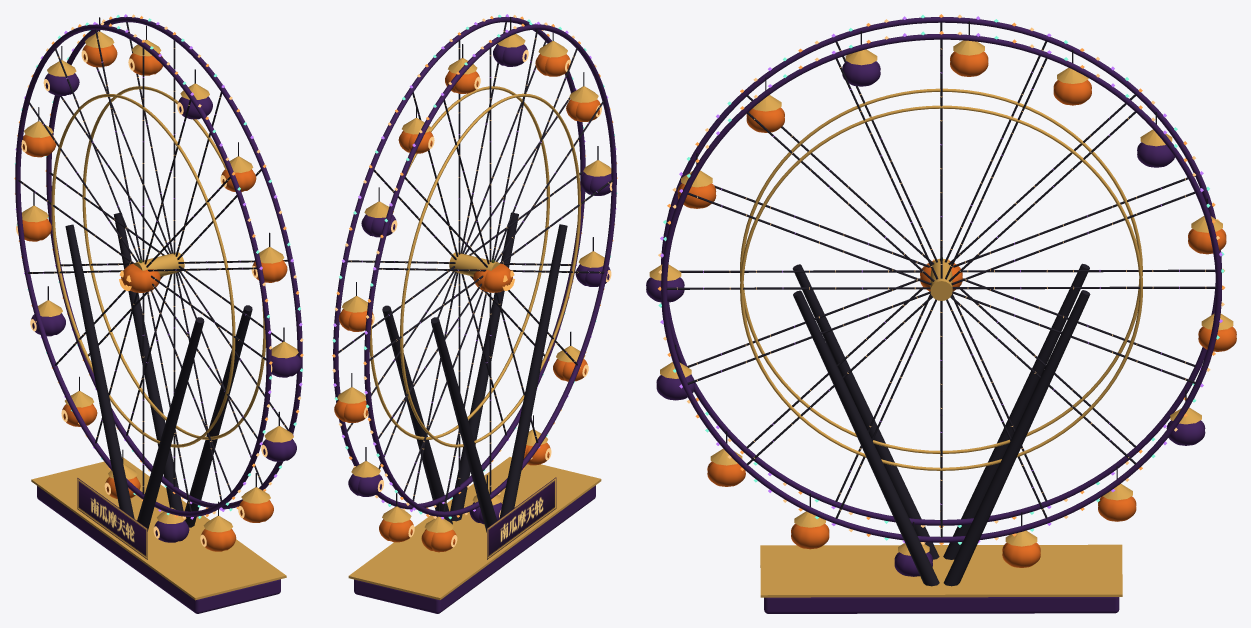
The model's file is L01_PumpkinFerrisWheel.glb.
3 renders of one model, left to right at view 1: azimuth 30°, elevation 25°; view 2: azimuth 150°, elevation 25°; view 3: azimuth 270°, elevation 25°, orthographic. The views are drawn at different scales.
Visible parts, largest first — view 1: L01_PumpkinFerrisWheel; view 2: L01_PumpkinFerrisWheel; view 3: L01_PumpkinFerrisWheel.
Boxes of the visible parts, x1,y1,x2,y2 form: L01_PumpkinFerrisWheel: [14, 14, 303, 613]; L01_PumpkinFerrisWheel: [332, 14, 617, 613]; L01_PumpkinFerrisWheel: [646, 14, 1236, 613].
Size of the model in its own units: 0.1897 by 1 by 0.9347.
14 materials, 1 textured.
